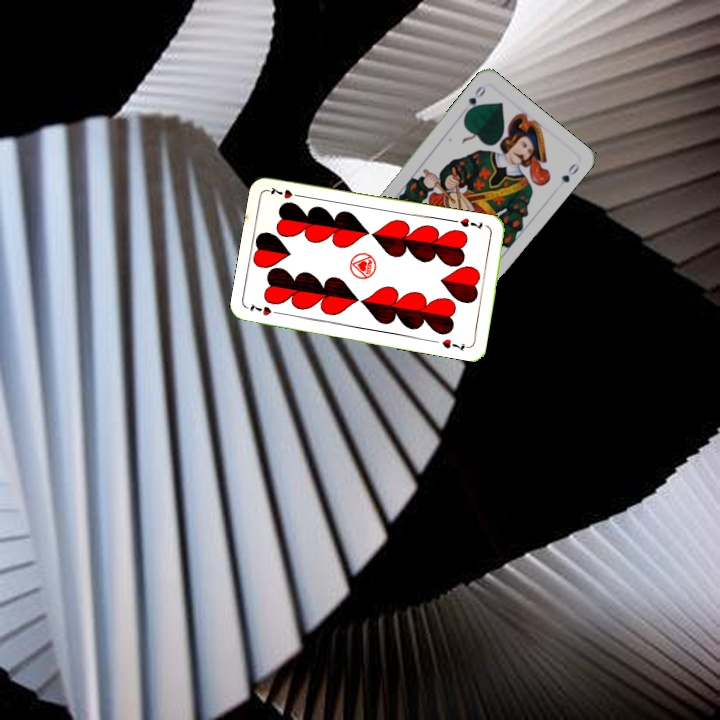GO: (461, 82, 488, 118)
H7: (246, 300, 284, 318), (456, 214, 485, 232)
